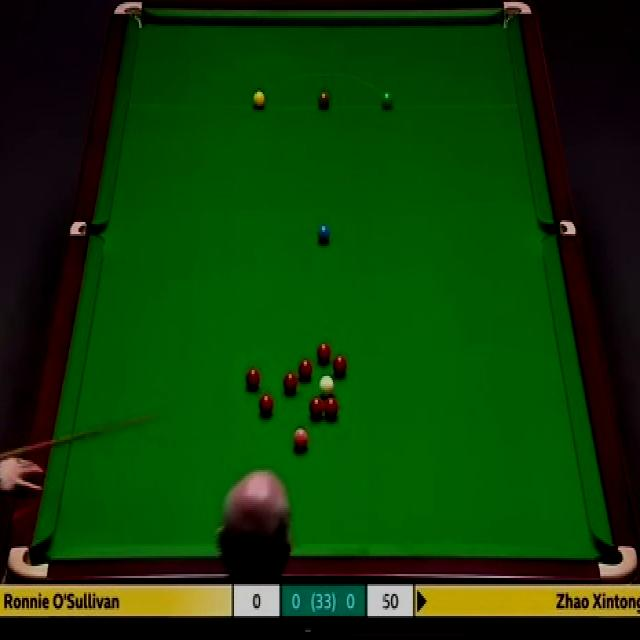blue-ball: (317, 224, 330, 243)
brown-ball: (316, 88, 331, 110)
green-ball: (380, 90, 395, 110)
pink-ball: (292, 425, 309, 451)
red-ball: (244, 365, 261, 391), (332, 353, 348, 378), (282, 372, 298, 396), (258, 393, 274, 416), (298, 358, 313, 382), (316, 341, 331, 364), (310, 396, 324, 420), (325, 396, 338, 420)
white-ball: (318, 374, 334, 398)
yellow-ball: (252, 88, 265, 109)
